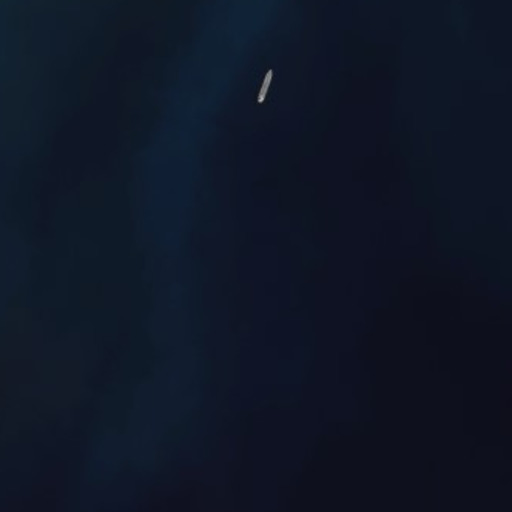ship: (253, 66, 277, 107)
